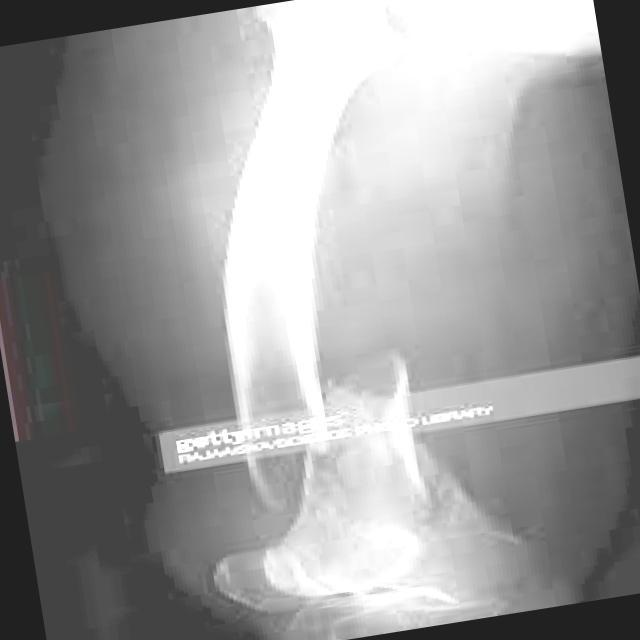Comminuted Fracture: (217, 344, 452, 510)
